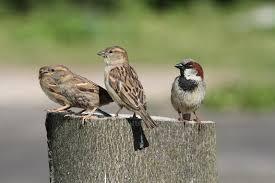hsparrow: (95, 40, 164, 130), (41, 57, 105, 133), (169, 55, 211, 127)
